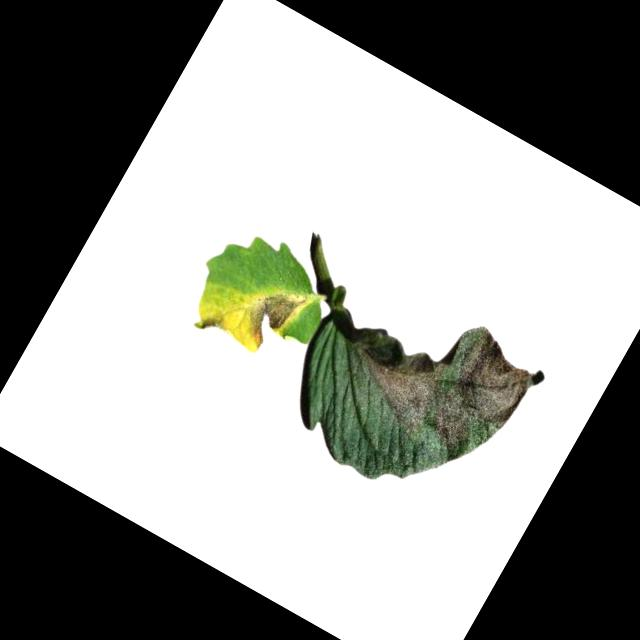Late_blight: (330, 275, 553, 479), (235, 279, 305, 357), (195, 310, 230, 344)
